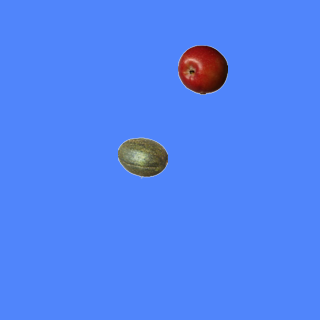Apple Braeburn: (177, 44, 227, 94)
Melon Piel de Sapo: (117, 132, 167, 182)
